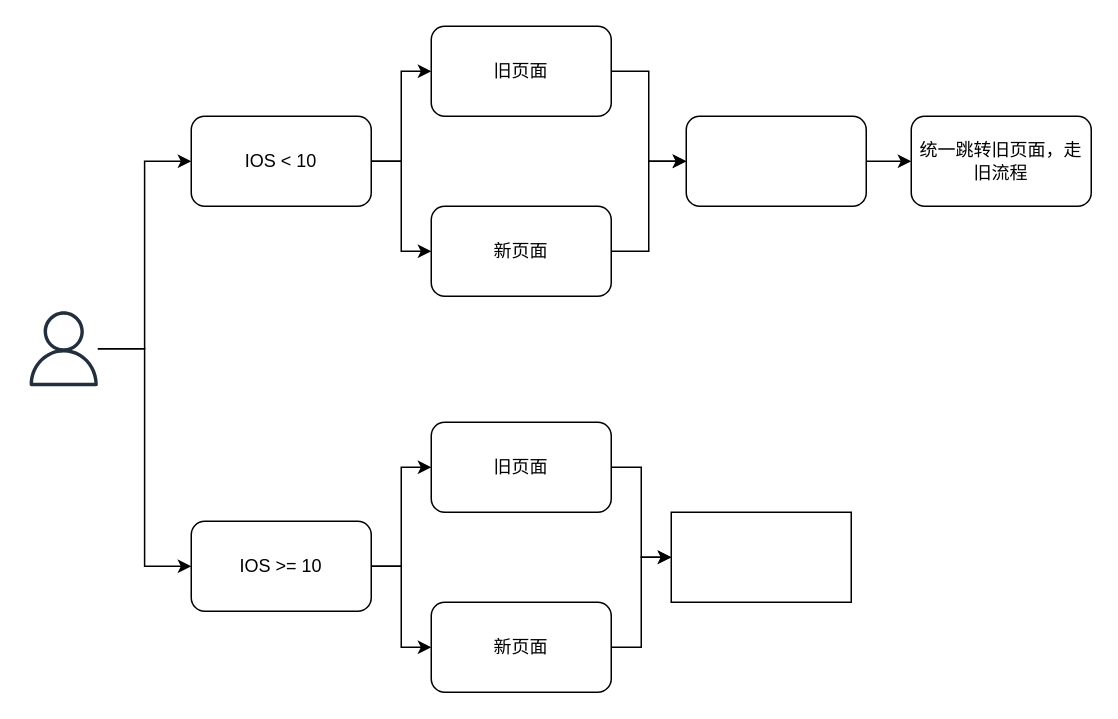
Image size: 1118x719. Some labels were removed from this diagram. The shapes that lost their labels are listed below. From the top down, each one's centre as x and y in pixels, then its label:
[775,160]: 前端逻辑处理【注意执行时机】，优先级判断机型
[63,348]: 存量用户
[760,556]: 遵循 灰度逻辑
